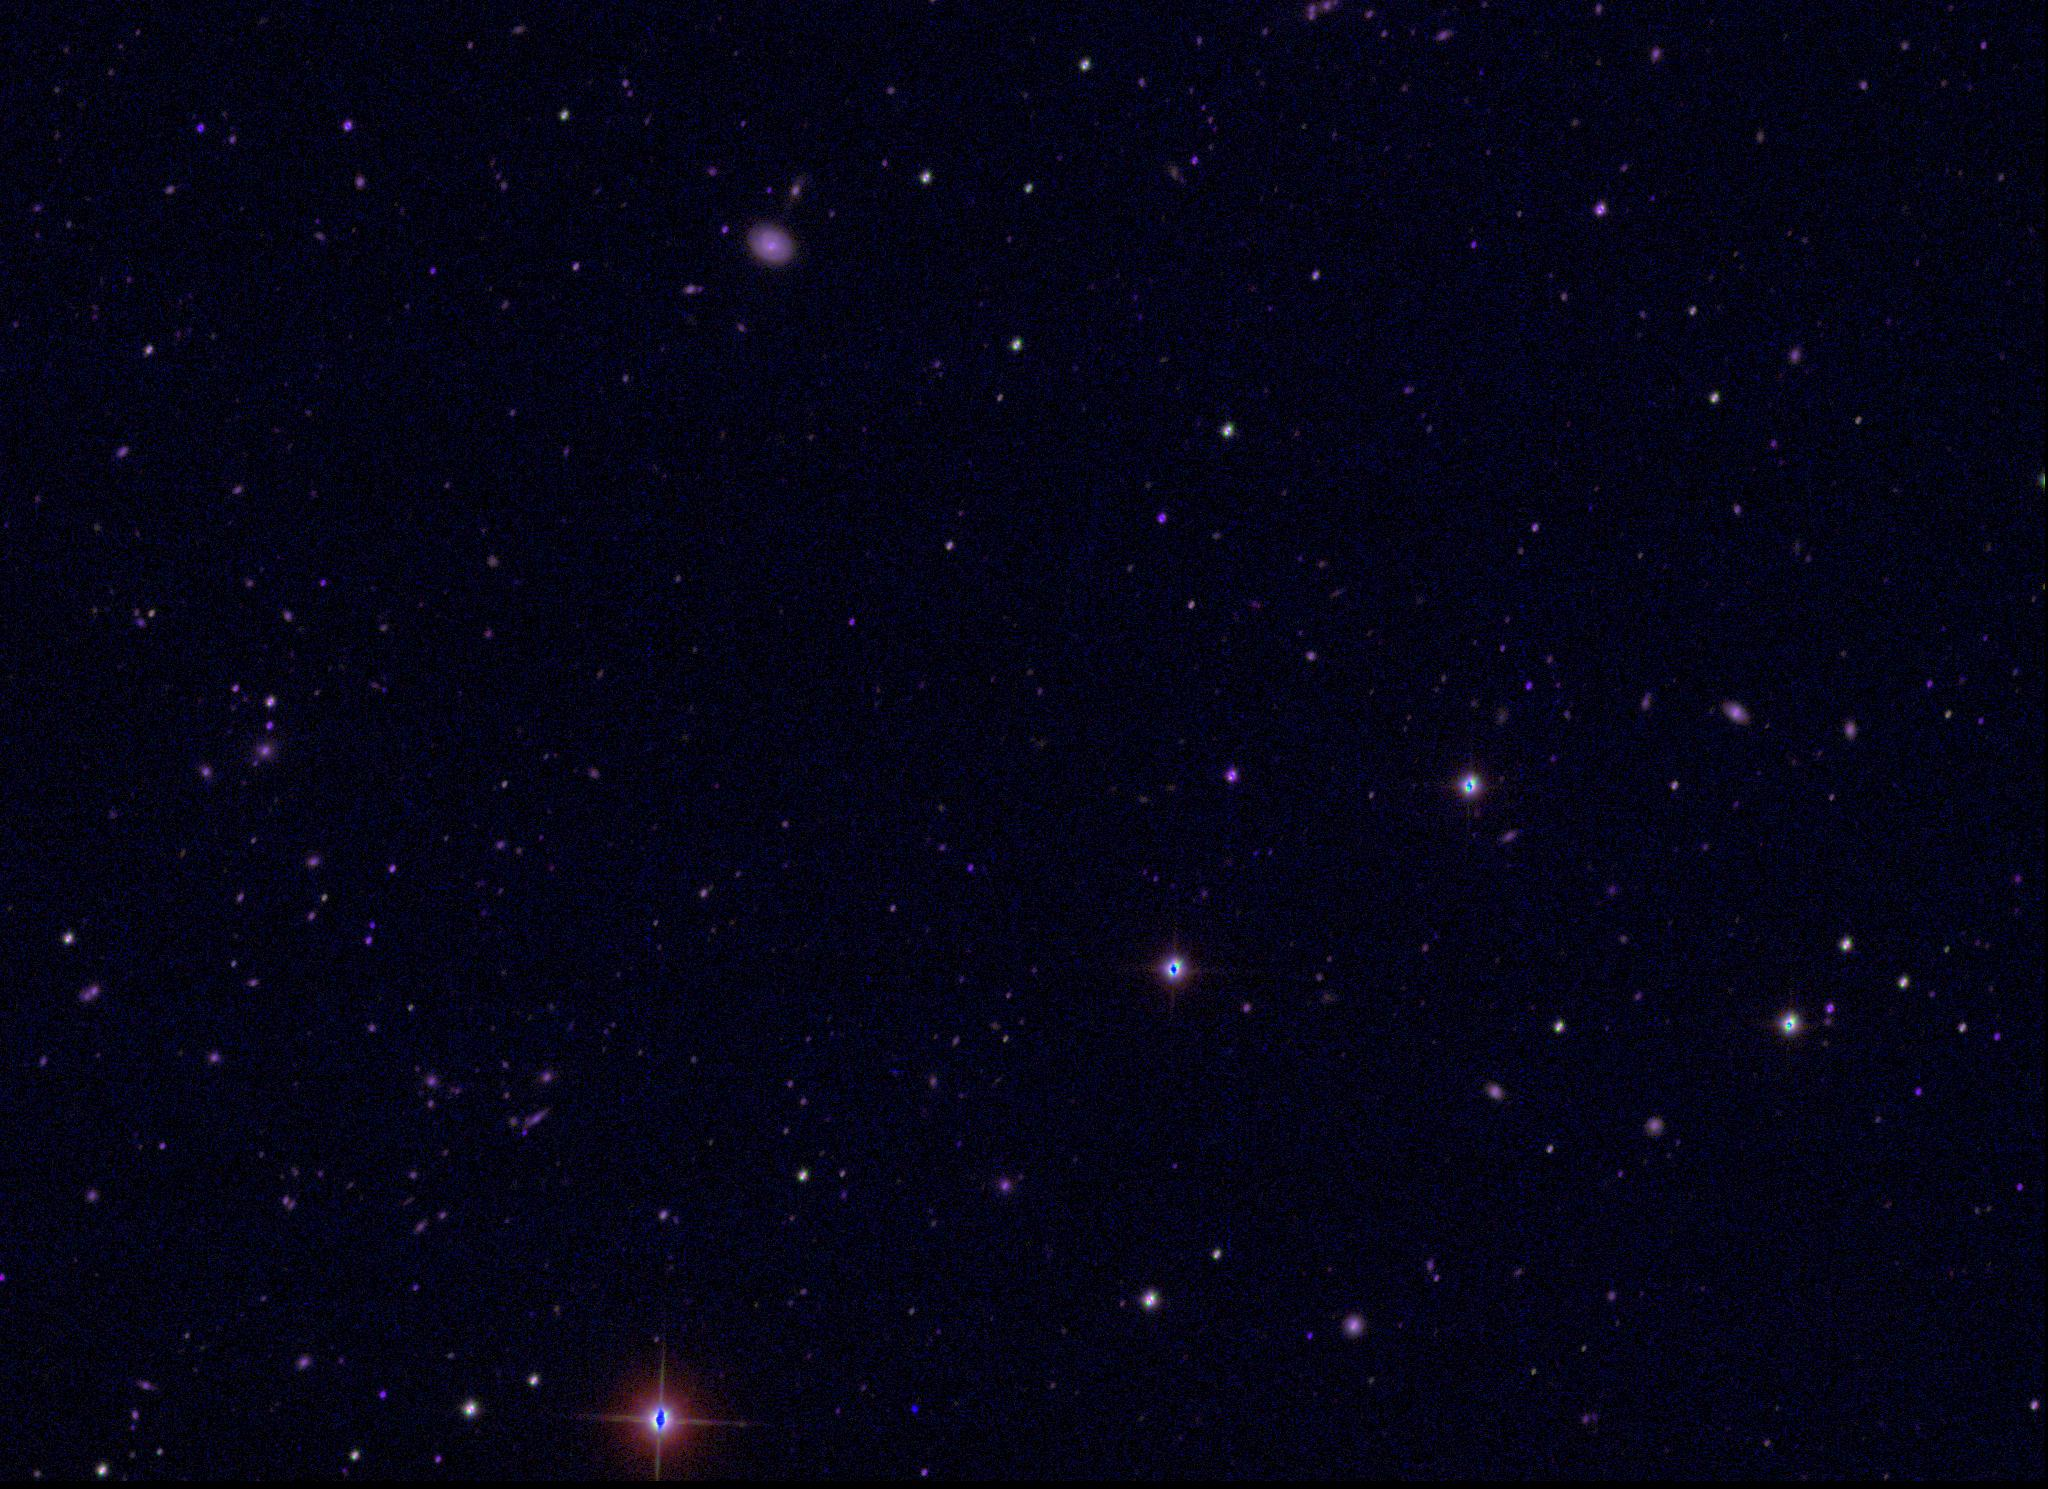L: (908, 1402, 922, 1416)
